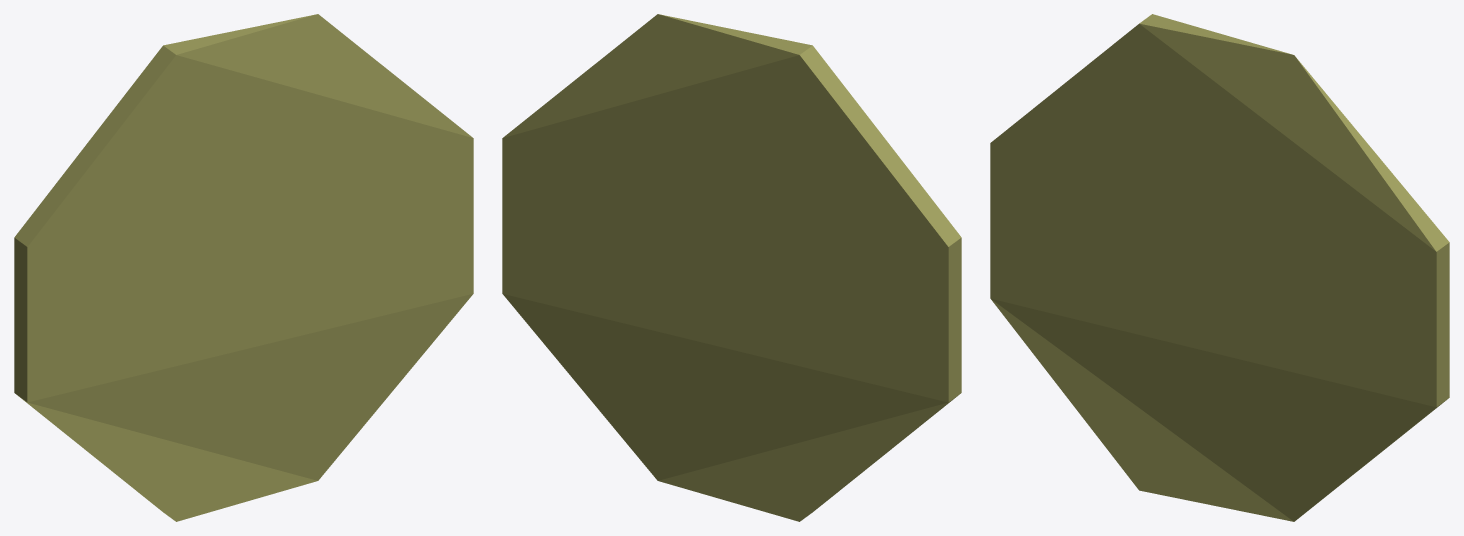
File: OBJ_PCB_Token.obj
3 renders of one model, left to right at view 1: azimuth 30°, elevation 25°; view 2: azimuth 150°, elevation 25°; view 3: azimuth 330°, elevation 25°, orthographic.
Bounding box in the file's own units: 196 × 196 × 10.
